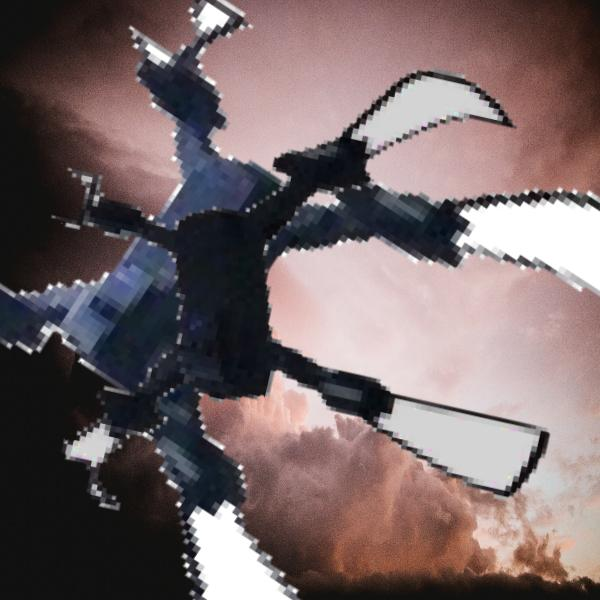drone: (36, 13, 590, 567)
